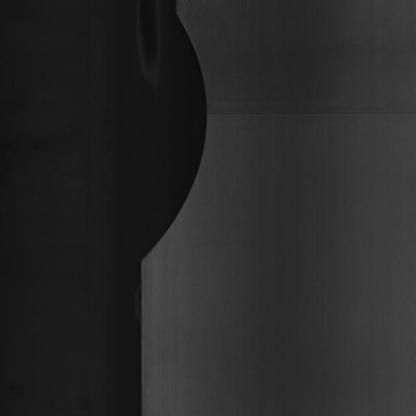crescent_gap: (128, 8, 212, 285)
welding_line: (201, 94, 416, 140)
